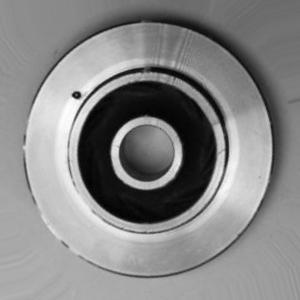pit: (65, 84, 90, 102)
scratch: (29, 194, 86, 270)
unpolished_casting: (20, 19, 274, 279)
